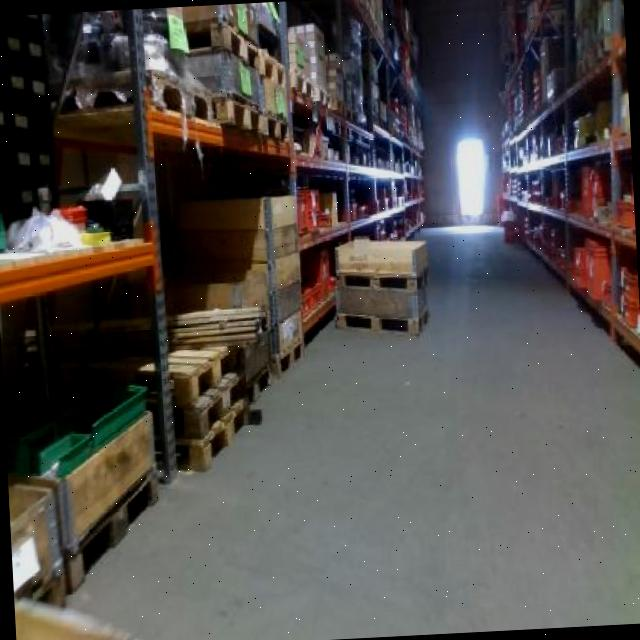pallet: (55, 451, 175, 609), (173, 386, 261, 485), (164, 337, 254, 409), (142, 60, 223, 130), (331, 258, 433, 300), (329, 304, 437, 343), (196, 15, 261, 77), (204, 86, 266, 140), (266, 325, 313, 386), (246, 34, 291, 90), (253, 103, 291, 145)
